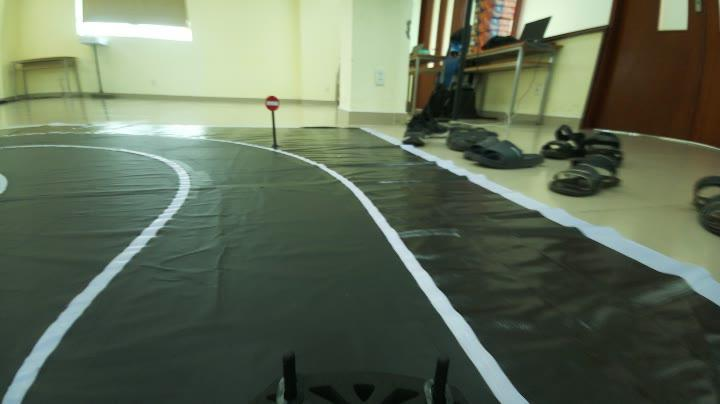no_entry: (262, 94, 280, 113)
